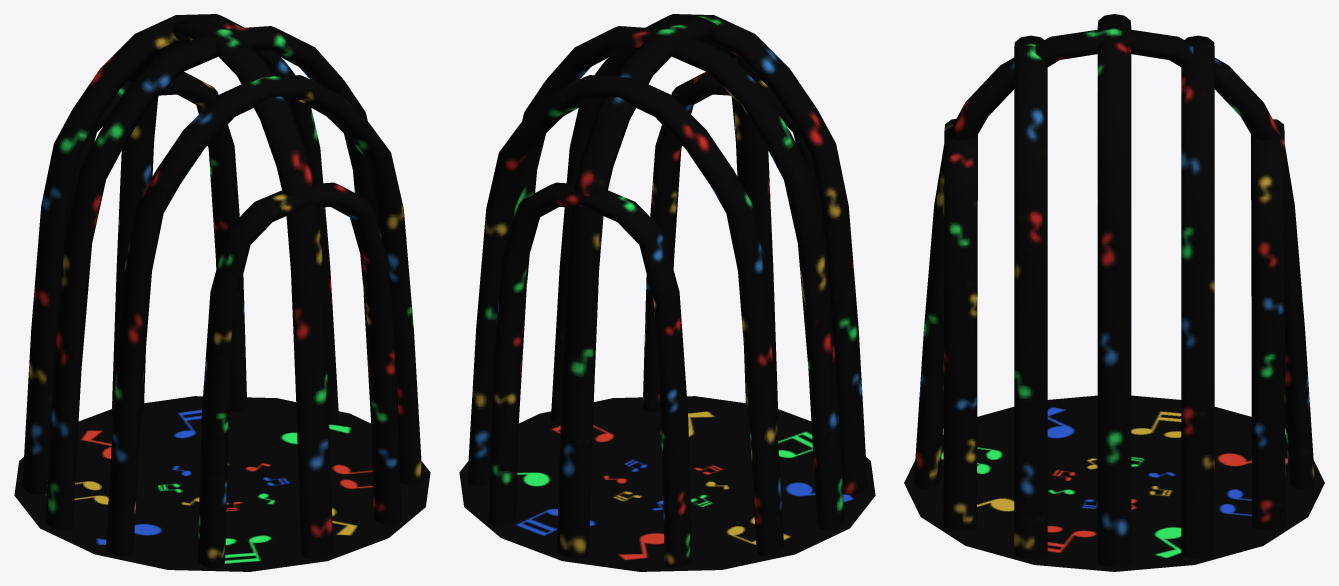
File: ori.fbx
The picture shows the model from 3 angles, left to right: view 1: azimuth 30°, elevation 25°; view 2: azimuth 150°, elevation 25°; view 3: azimuth 270°, elevation 25°; orthographic projection.
Visible parts, largest first — view 1: yuka1; view 2: yuka1; view 3: yuka1.
Part boxes in pixels (x1,y1,x2,y2): yuka1: [14, 14, 430, 571]; yuka1: [459, 14, 875, 571]; yuka1: [904, 14, 1324, 571].
Size of the model in its own units: 10.27 by 12.19 by 10.27.
